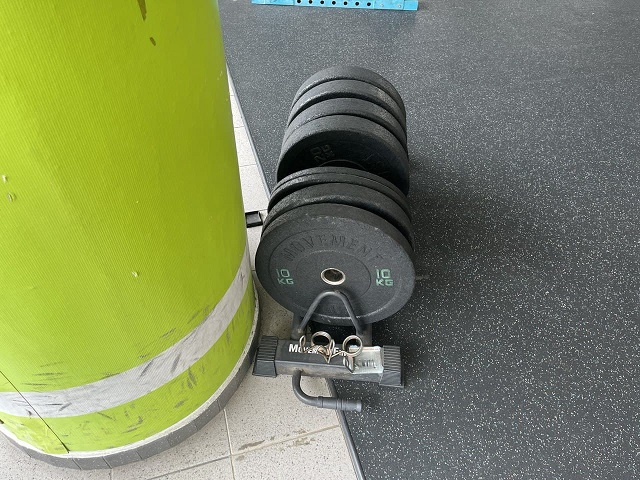weights: (253, 201, 419, 328), (272, 116, 412, 190)
